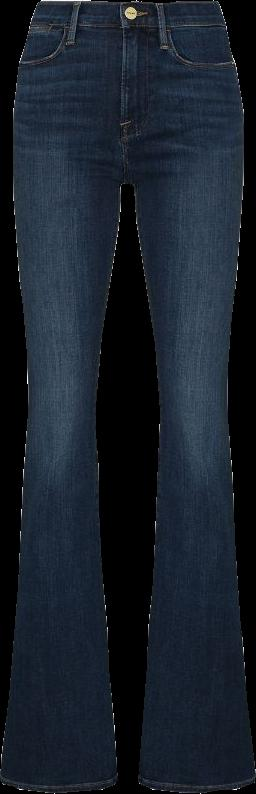Hemline: (0, 767, 118, 793), (135, 773, 255, 793)
Pantleg: (117, 2, 254, 792), (1, 1, 133, 792)
Waistline: (29, 17, 230, 40), (37, 0, 222, 18)
